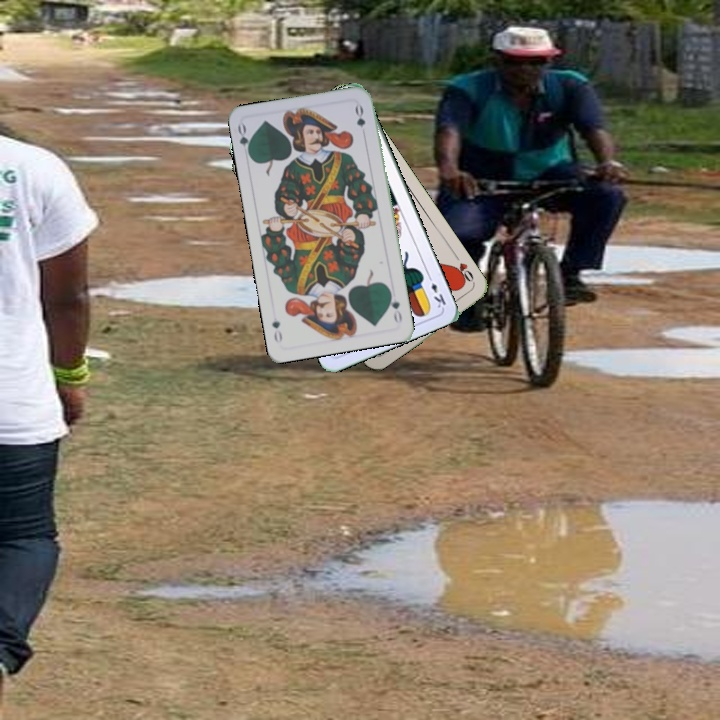EK: (424, 271, 448, 311)
GO: (233, 120, 254, 160), (385, 286, 404, 326)
HO: (448, 251, 478, 288)
